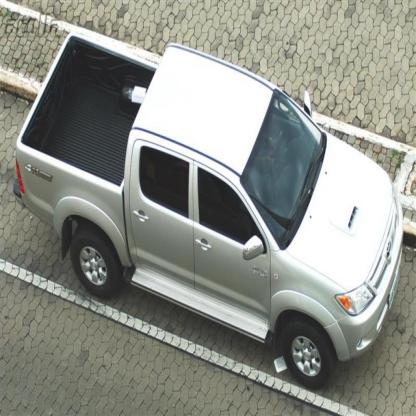Truck: (13, 31, 404, 390)
